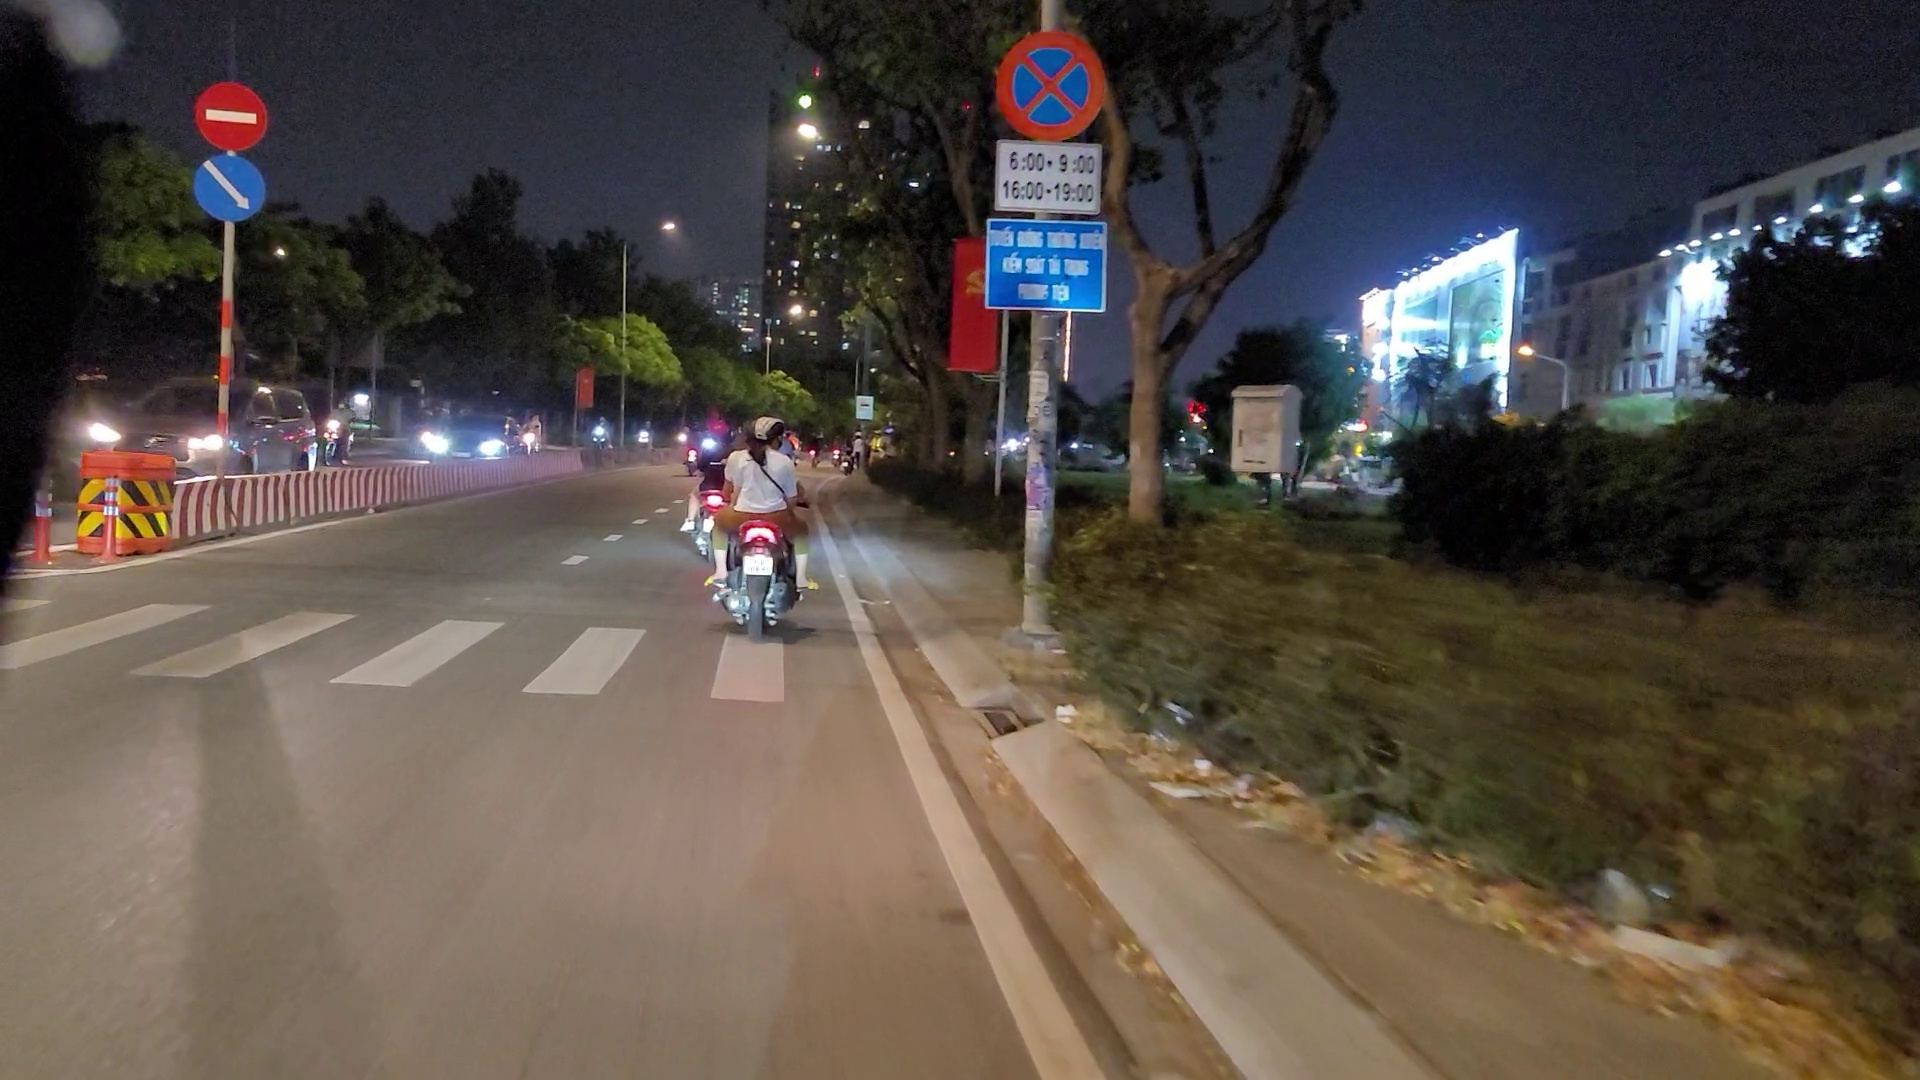Bien khac: (992, 28, 1108, 138)
Cam di nguoc chieu: (193, 80, 268, 152)
Huong di phai re phai: (193, 152, 264, 220)
